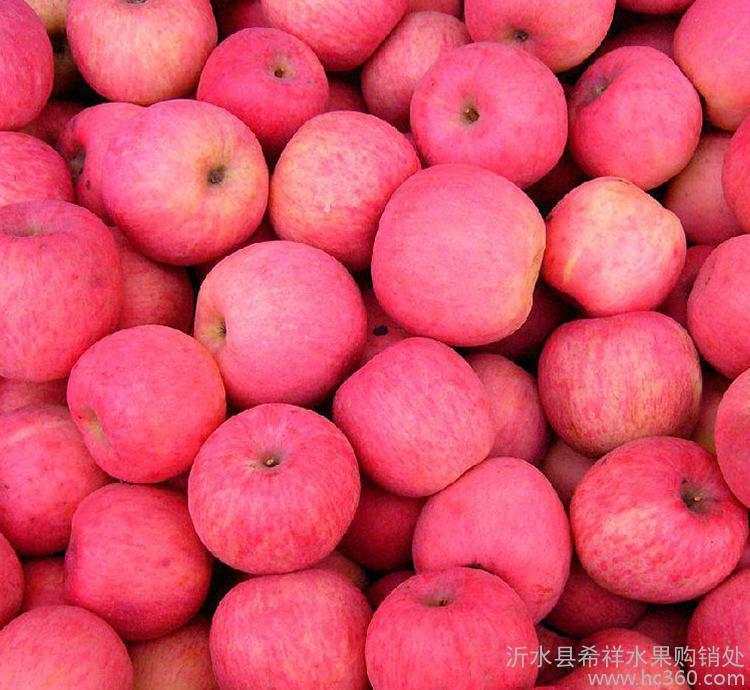apple: (367, 158, 552, 352), (569, 432, 748, 603), (94, 96, 273, 263), (197, 238, 365, 408), (188, 402, 356, 572), (322, 333, 490, 503), (57, 321, 225, 491), (413, 452, 575, 619), (271, 105, 426, 262), (1, 193, 125, 386), (541, 311, 705, 454), (62, 479, 207, 638), (409, 45, 569, 188), (362, 562, 536, 690), (204, 562, 378, 690), (546, 172, 689, 317), (569, 42, 708, 190), (191, 22, 330, 148), (62, 1, 219, 108), (1, 394, 105, 554), (1, 600, 142, 690)
